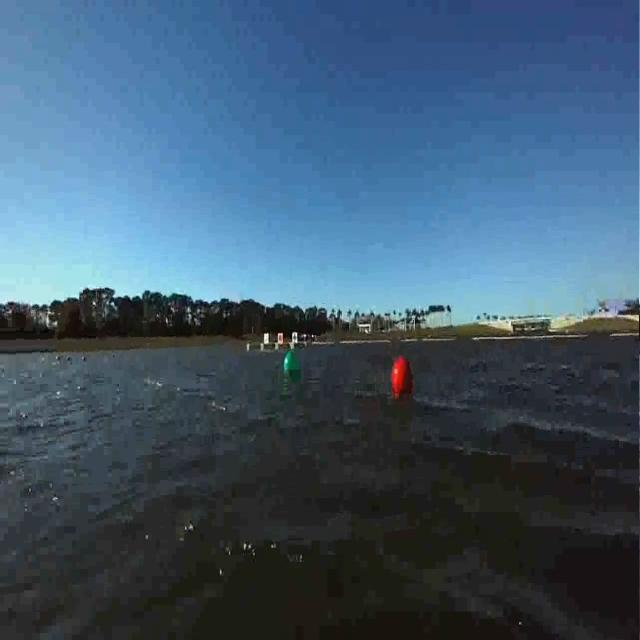green-buoy: (283, 347, 303, 378)
red-buoy: (385, 352, 416, 402)
